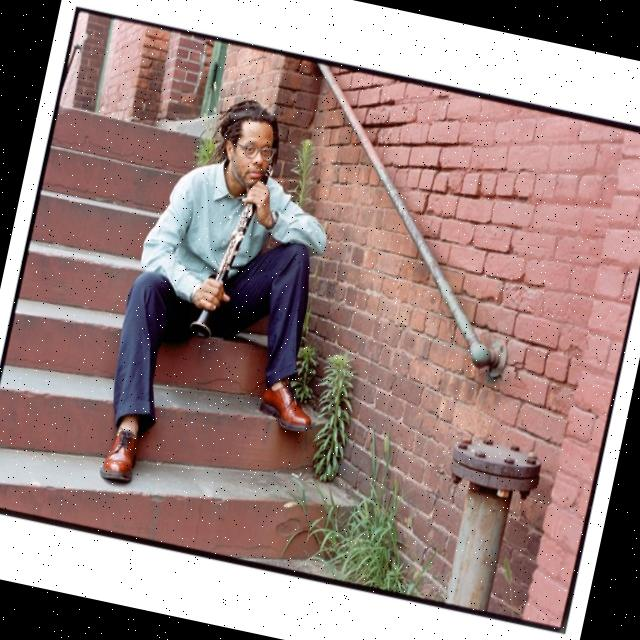clarinet: (184, 149, 279, 352)
